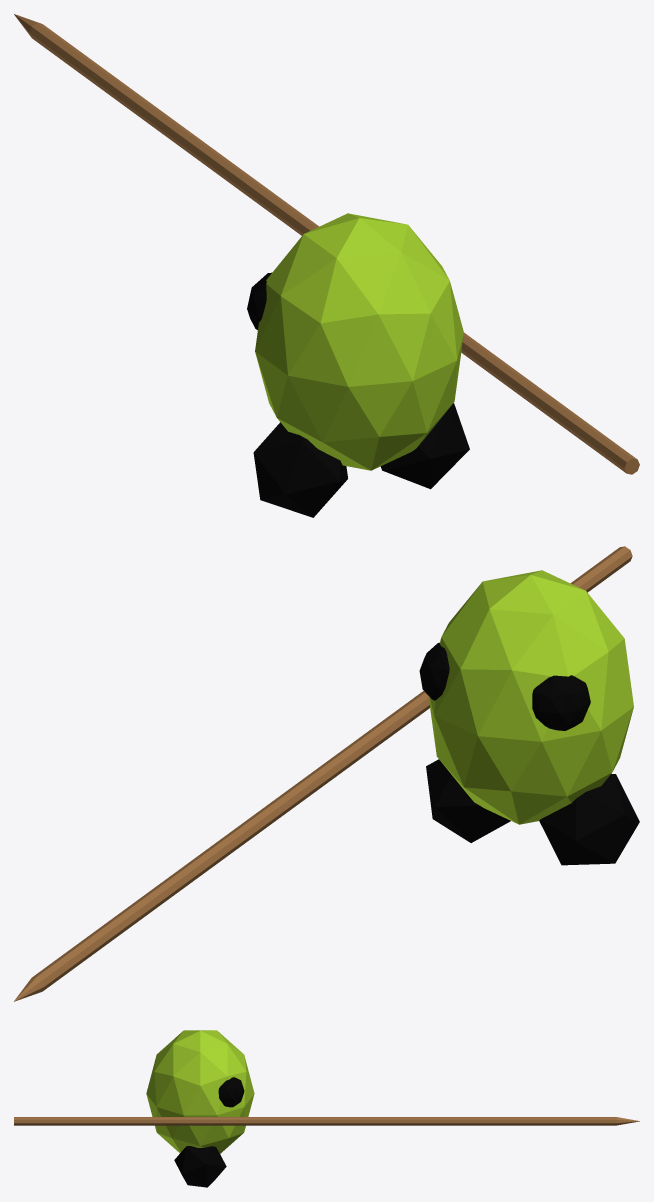
Rendered from stab.f0020.glb.
3 renders of one model, top to bottom at view 1: azimuth 30°, elevation 25°; view 2: azimuth 150°, elevation 25°; view 3: azimuth 270°, elevation 25°, orthographic. The views are drawn at different scales.
Parts seen in each view (by area): view 1: Body.001; view 2: Body.001; view 3: Body.001.
Boxes of the visible parts, bbox=[...] form: Body.001: bbox=[14, 14, 639, 517]; Body.001: bbox=[14, 546, 639, 1001]; Body.001: bbox=[14, 1030, 639, 1187].
Bounding box in the file's own units: 2.17 × 2.85 × 11.56.
Materials: 1 (1 with a texture image).
